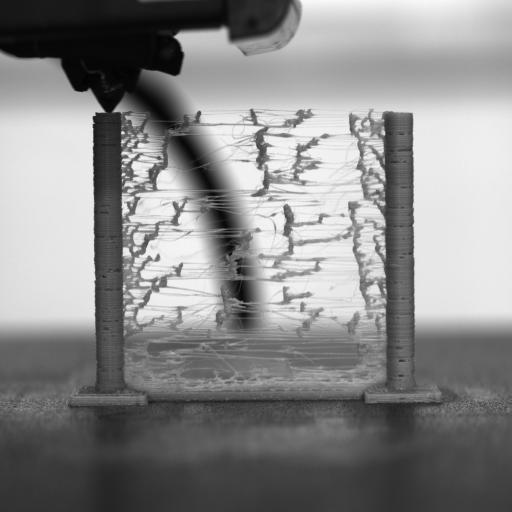spaghetti_and_stringing: (114, 106, 378, 382)
